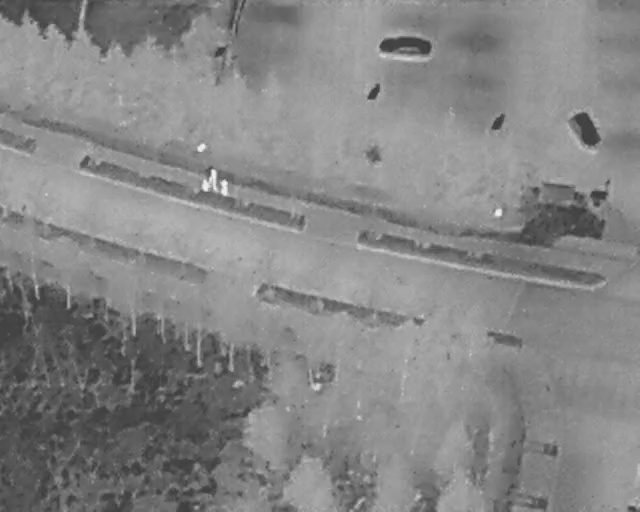Car: (521, 184, 606, 238), (567, 108, 603, 150), (378, 36, 433, 58)
Person: (209, 168, 218, 192), (219, 179, 228, 198), (200, 179, 209, 196)
